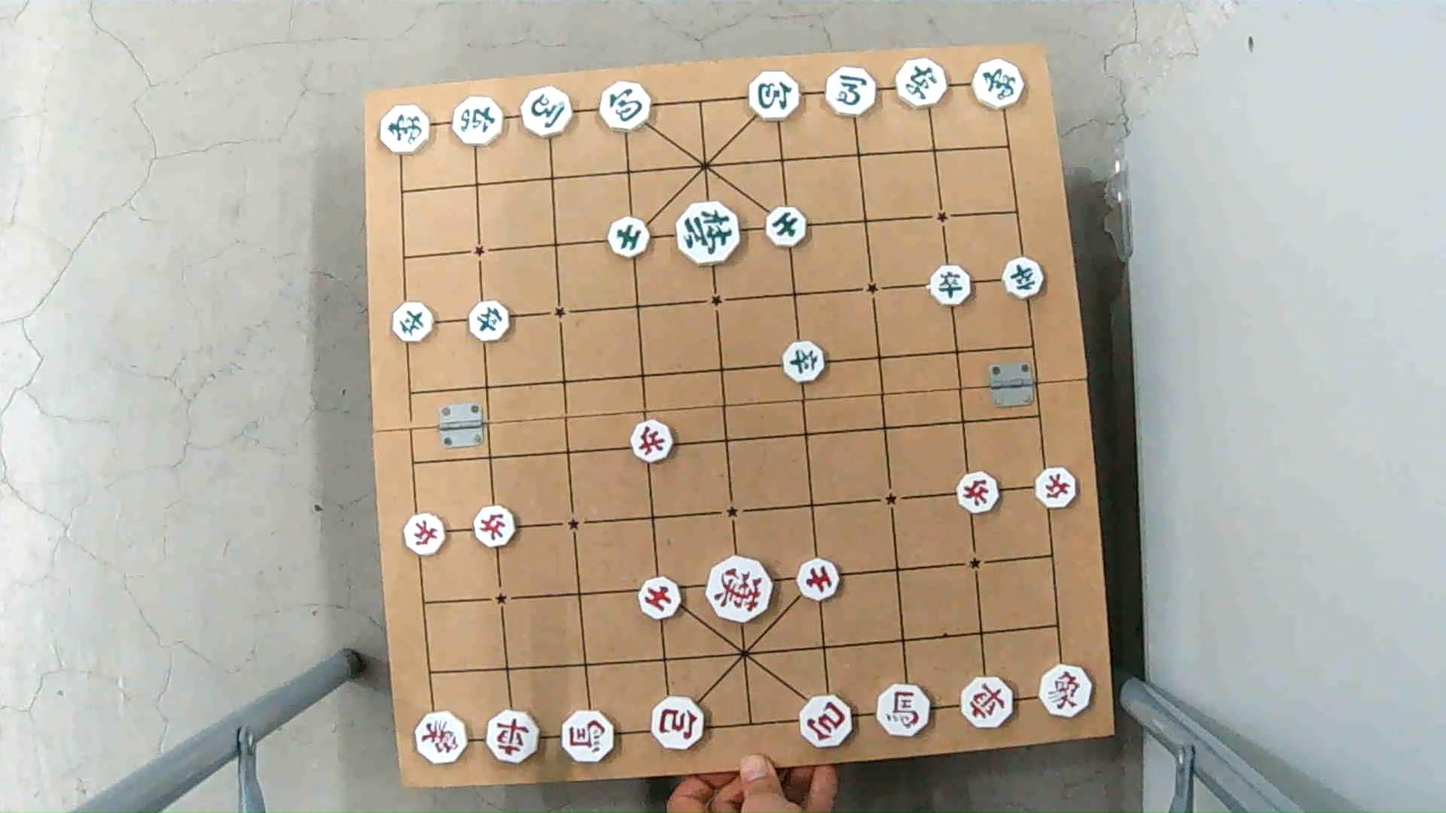cha_green: (894, 62, 949, 108), (453, 97, 508, 143)
cha_red: (958, 677, 1017, 726), (487, 711, 545, 760)
jol_green: (466, 303, 513, 341), (929, 267, 977, 304), (782, 345, 831, 381), (1002, 260, 1048, 297), (391, 305, 436, 342)
jol_red: (627, 419, 676, 461), (472, 510, 521, 548), (400, 516, 448, 554), (953, 473, 1003, 509), (1033, 471, 1077, 509)
ma_green: (519, 91, 575, 138), (825, 70, 881, 115)
ma_red: (874, 687, 935, 733), (563, 713, 616, 763)
po_green: (597, 84, 655, 129), (749, 73, 801, 117)
po_red: (795, 698, 855, 747), (648, 699, 706, 749)
sa_green: (764, 207, 811, 245), (608, 219, 654, 256)
sa_red: (636, 579, 685, 617), (794, 562, 843, 599)
sang_green: (972, 61, 1027, 108), (377, 107, 432, 153)
sang_red: (1036, 665, 1095, 714), (413, 712, 471, 761)
wang_green: (676, 204, 742, 260)
wang_red: (703, 557, 773, 621)
